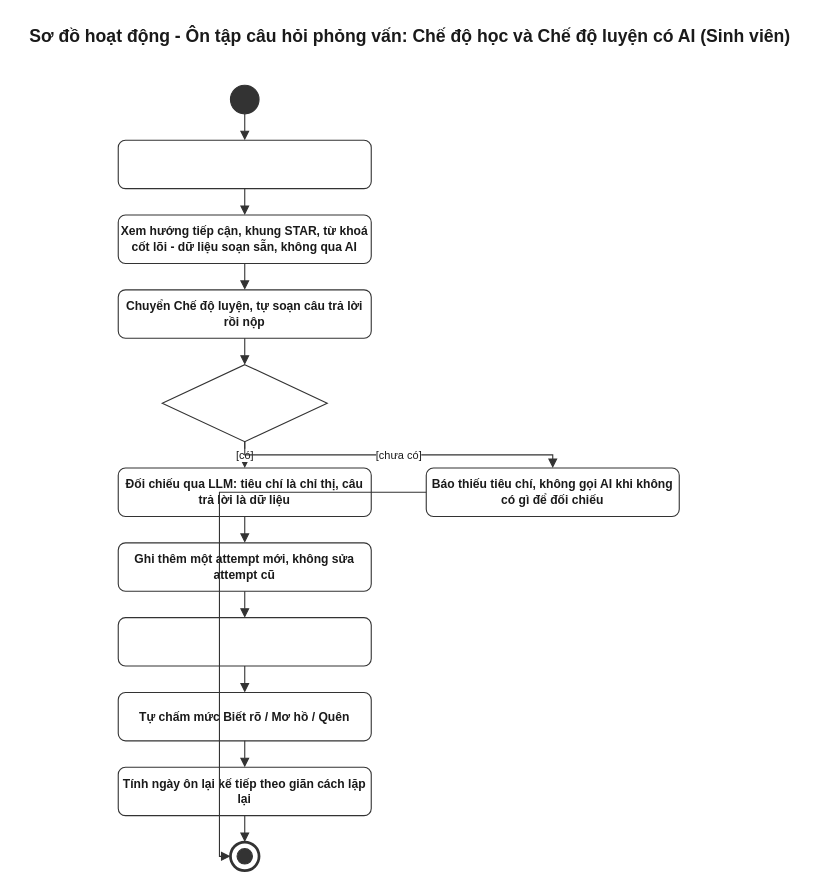
Some shapes in this 818 by 891 pixel diagram are drawn without their labels. Here are the shapes that lost their labels. From the top down, the box of each, then its label:
(117, 139, 371, 189): Mở câu hỏi ở Chế độ học
(161, 364, 327, 442): Câu hỏi đã có bộ tiêu chí đánh giá?
(117, 617, 371, 666): Hiện ý đã đạt và ý còn thiếu theo từng tiêu chí
